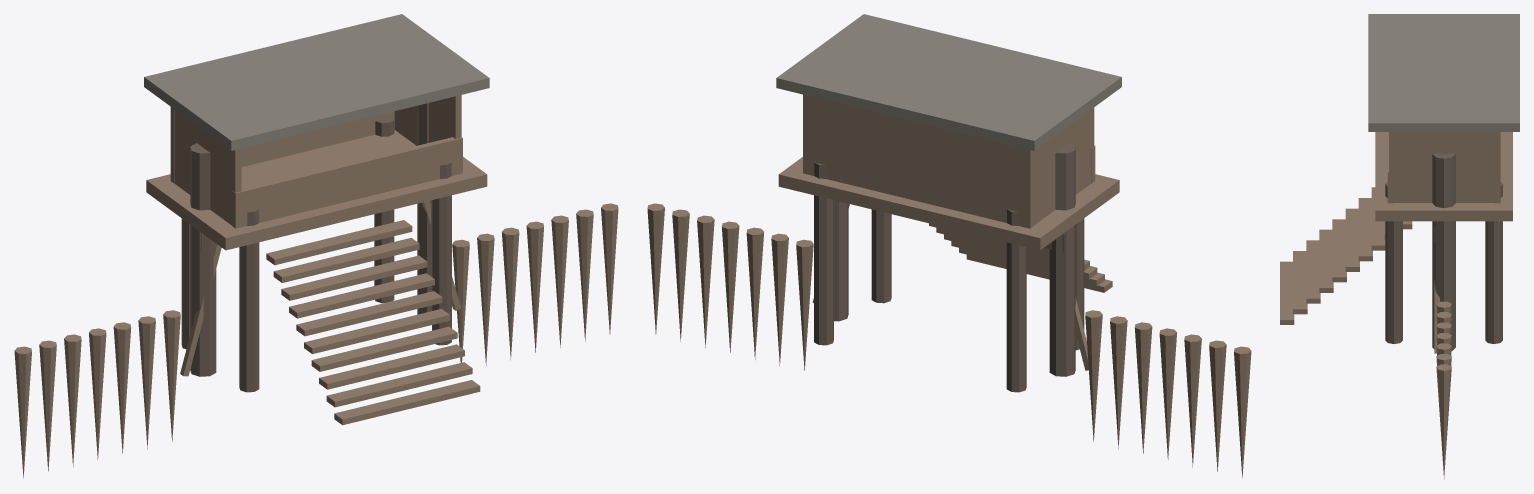
Rendered from Midgard_Viking_Gate_Tower_V1_YUP.glb.
3 renders of one model, left to right at view 1: azimuth 30°, elevation 25°; view 2: azimuth 150°, elevation 25°; view 3: azimuth 270°, elevation 25°, orthographic. The views are drawn at different scales.
Visible parts, largest first — view 1: Roof, Deck, FrontLow, GatePost-3.3, Left, Leg-2.8_1.45, Back, Leg2.8_1.45, Right, Step1, Step7, Step9 (+25 smaller); view 2: Roof, Back, Deck, GatePost-3.3, Left, Leg-2.8_-1.45, Leg2.8_-1.45, Leg2.8_1.45, GatePost3.3, Pal1_1, Pal-1_0, Pal1_5 (+12 smaller); view 3: Roof, Right, Deck, GatePost3.3, Leg2.8_-1.45, Leg2.8_1.45, Pal1_6, Step1, Step2, Step4, Step6, Step3 (+5 smaller).
Part boxes in pixels (x1,y1,x2,y2): Roof: [144, 14, 489, 150]; Deck: [146, 130, 487, 250]; FrontLow: [232, 137, 462, 228]; GatePost-3.3: [190, 143, 216, 376]; Left: [174, 110, 241, 225]; Leg-2.8_1.45: [239, 209, 259, 392]; Back: [170, 107, 394, 183]; Leg2.8_1.45: [432, 162, 451, 345]; Right: [394, 95, 461, 145]; Step1: [326, 362, 472, 407]; Step7: [281, 255, 427, 300]; Step9: [266, 220, 412, 265]; Roof: [776, 14, 1121, 150]; Back: [803, 94, 1033, 228]; Deck: [778, 157, 1119, 250]; GatePost-3.3: [1049, 143, 1075, 376]; Left: [1033, 107, 1094, 225]; Leg-2.8_-1.45: [1006, 209, 1026, 392]; Leg2.8_-1.45: [814, 162, 833, 345]; Leg2.8_1.45: [871, 209, 891, 303]; GatePost3.3: [834, 200, 848, 321]; Pal1_1: [771, 233, 788, 365]; Pal-1_0: [1085, 310, 1102, 441]; Pal1_5: [672, 209, 689, 341]; Roof: [1368, 14, 1519, 131]; Right: [1389, 132, 1494, 202]; Deck: [1375, 132, 1512, 221]; GatePost3.3: [1432, 153, 1455, 351]; Leg2.8_-1.45: [1485, 182, 1502, 343]; Leg2.8_1.45: [1385, 182, 1402, 343]; Pal1_6: [1436, 364, 1451, 479]; Step1: [1293, 251, 1307, 314]; Step2: [1306, 240, 1320, 303]; Step4: [1332, 219, 1346, 282]; Step6: [1358, 198, 1372, 261]; Step3: [1319, 229, 1333, 292].
Bounding box in the file's own units: 17.48 × 9.19 × 6.96.
